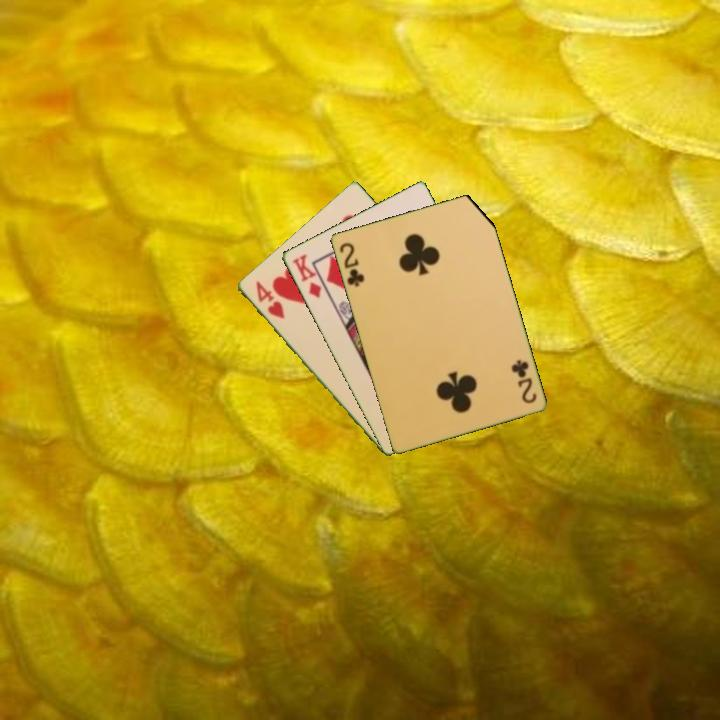2c: (335, 239, 367, 289), (508, 356, 539, 406)
4h: (251, 277, 287, 322)
Kd: (288, 250, 324, 301)
